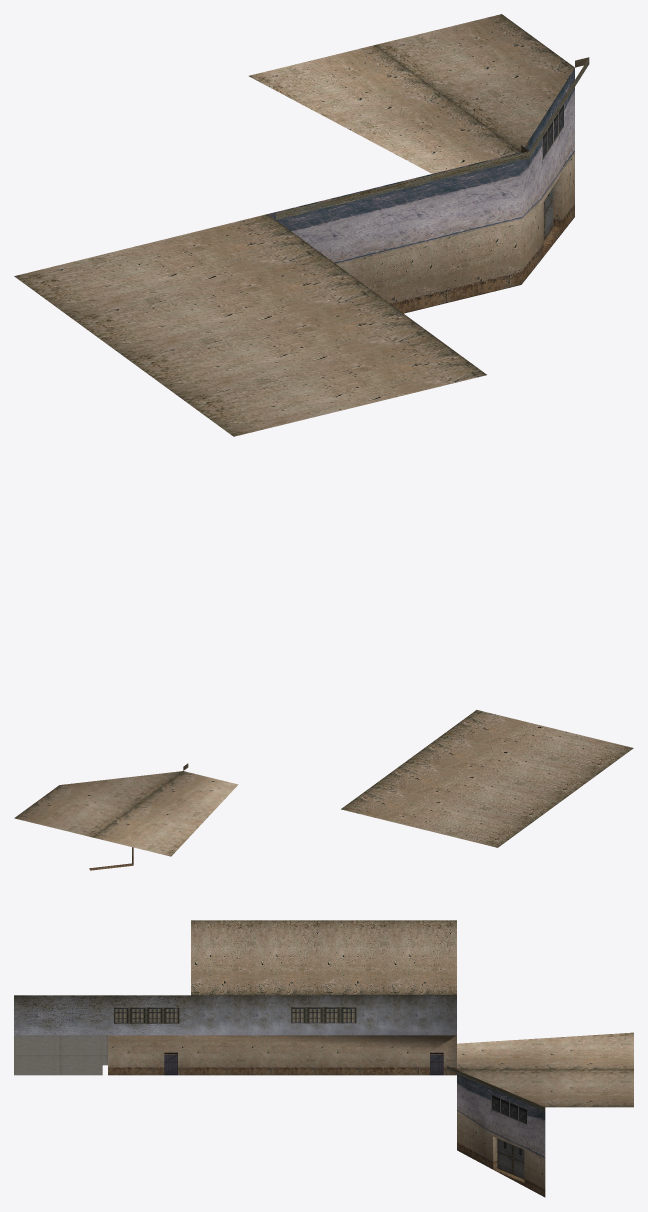
The model's file is M11Z1_Building02_C.glb.
The picture shows the model from 3 angles, top to bottom: view 1: azimuth 30°, elevation 25°; view 2: azimuth 150°, elevation 25°; view 3: azimuth 270°, elevation 25°; orthographic projection. The views are drawn at different scales.
Parts seen in each view (by area): view 1: M11Z1_BUILDING02_C; view 2: M11Z1_BUILDING02_C; view 3: M11Z1_BUILDING02_C.
Boxes of the visible parts, x1,y1,x2,y2 form: M11Z1_BUILDING02_C: (14, 14, 589, 436); M11Z1_BUILDING02_C: (14, 710, 633, 870); M11Z1_BUILDING02_C: (14, 920, 633, 1197).
Bounding box in the file's own units: 40.9 × 9.42 × 56.
Materials: 10 (10 with a texture image).
